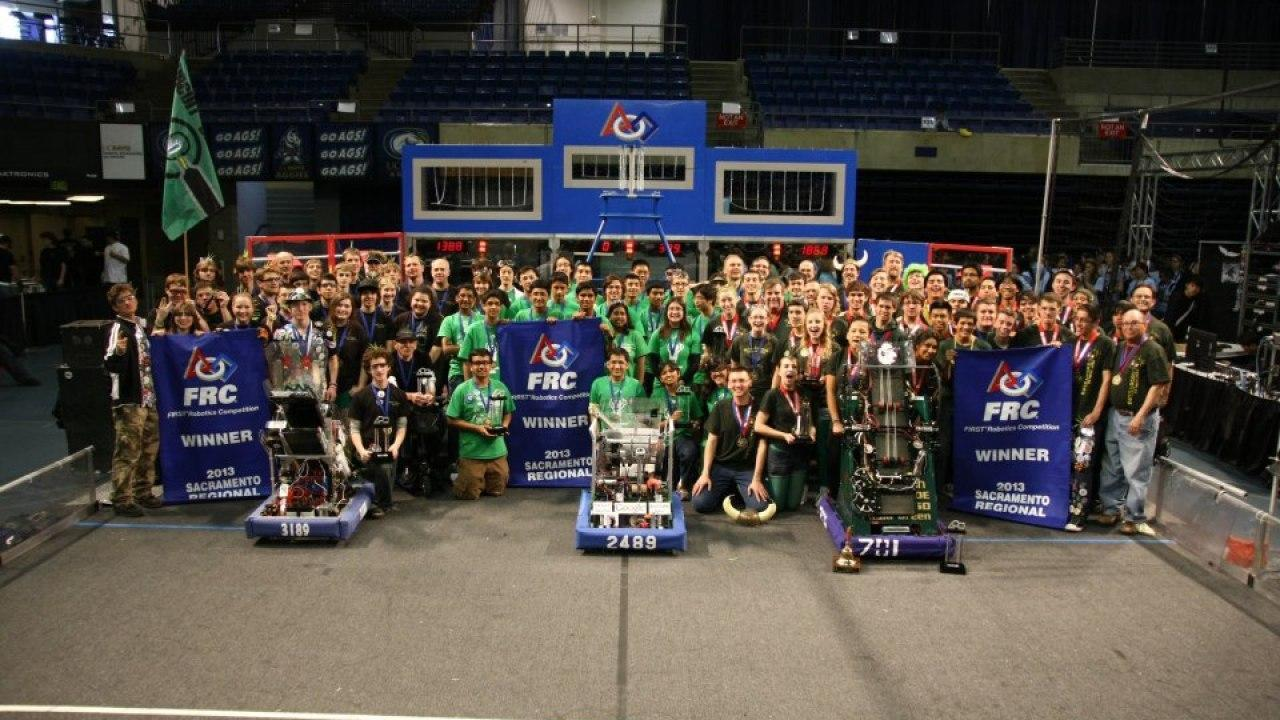robot: (811, 326, 976, 577), (242, 365, 379, 552), (573, 383, 692, 556)
